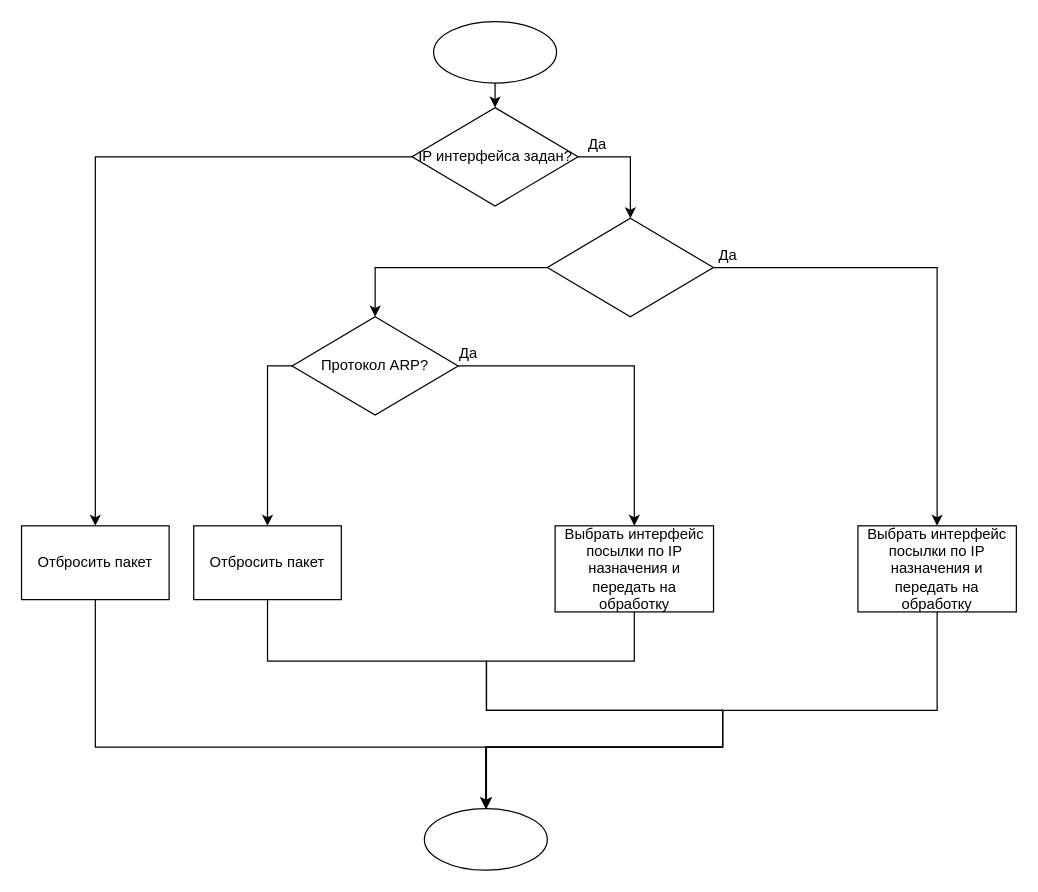
Image size: 1038x892. Some labels were removed from this diagram. Here are the shapes that lost their labels. From the top down, the box of each, then its label:
(432, 20, 557, 83): Начало
(546, 217, 713, 317): Протокол IP?
(423, 807, 547, 870): Конец
